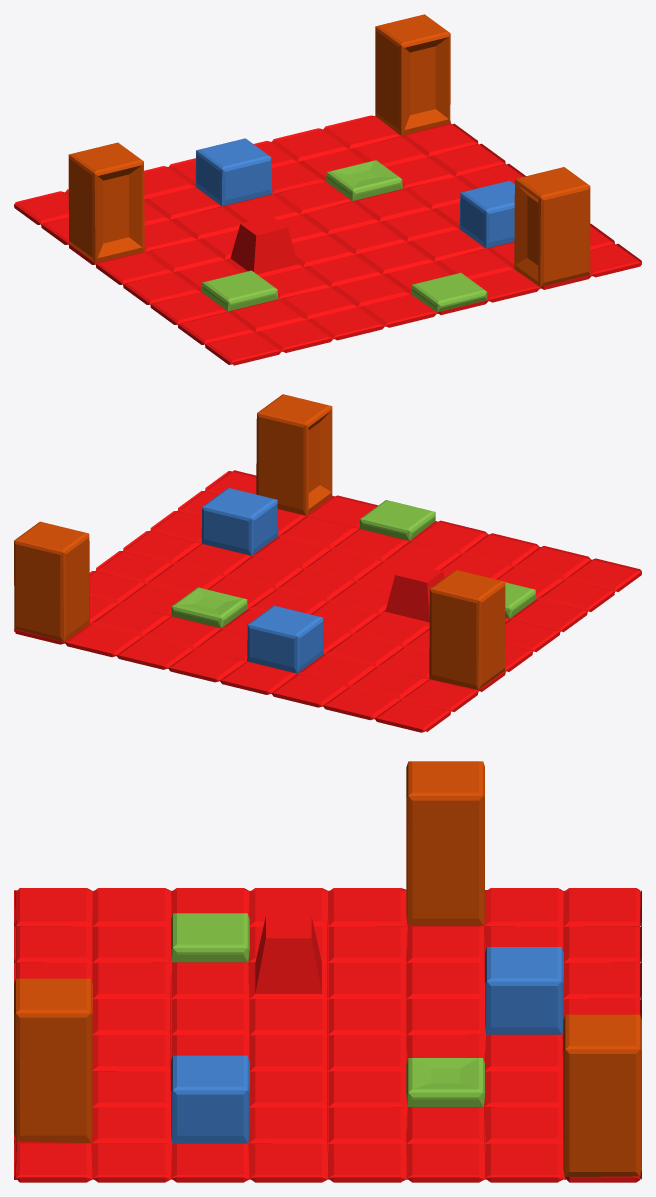
Rendered from sol cool.fbx.
3 renders of one model, top to bottom at view 1: azimuth 30°, elevation 25°; view 2: azimuth 150°, elevation 25°; view 3: azimuth 270°, elevation 25°, orthographic. The views are drawn at different scales.
Parts seen in each view (by area): view 1: Box001; view 2: Box001; view 3: Box001.
Boxes of the visible parts, x1=… form: Box001: x1=14, y1=14, x2=641, y2=365; Box001: x1=14, y1=394, x2=641, y2=732; Box001: x1=14, y1=761, x2=641, y2=1182.
Bounding box in the file's own units: 176 × 38.07 × 162.
